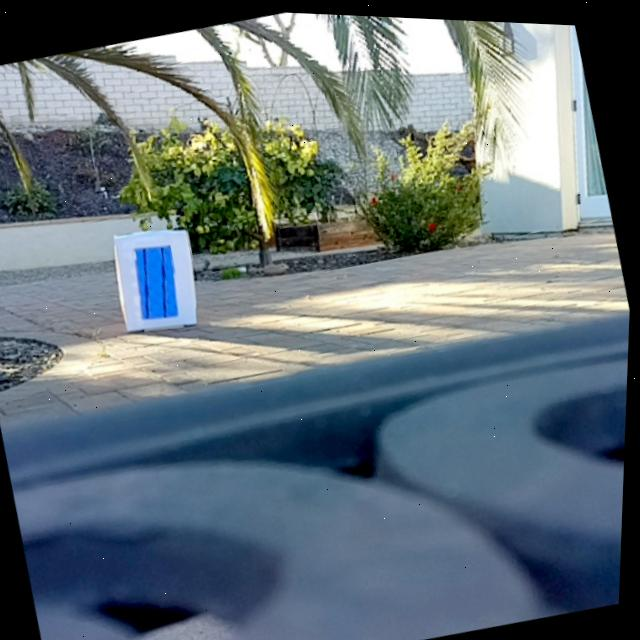led: (130, 239, 188, 322)
